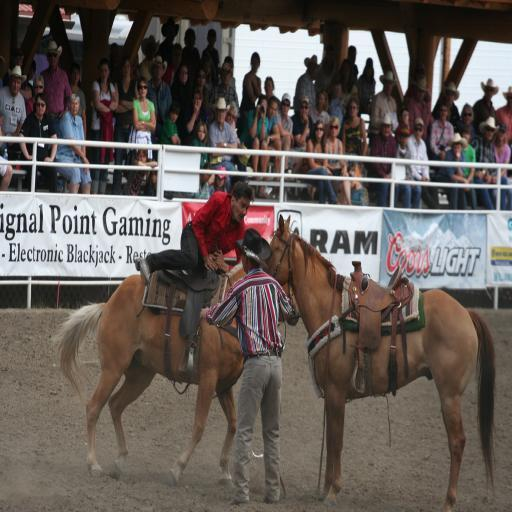horse: (262, 212, 494, 512), (48, 262, 246, 488)
